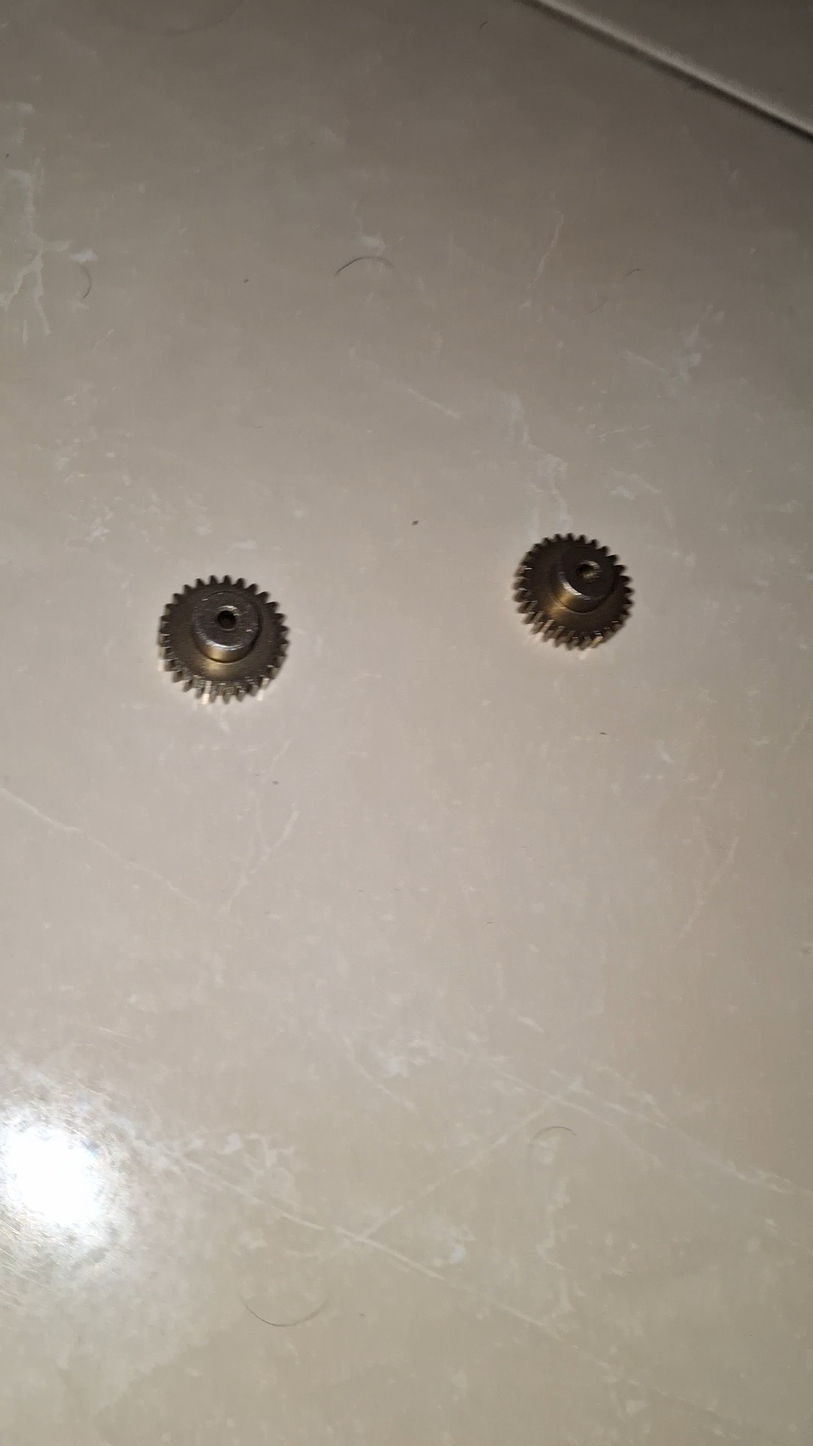spur gear: (158, 576, 288, 701), (514, 535, 632, 649)
